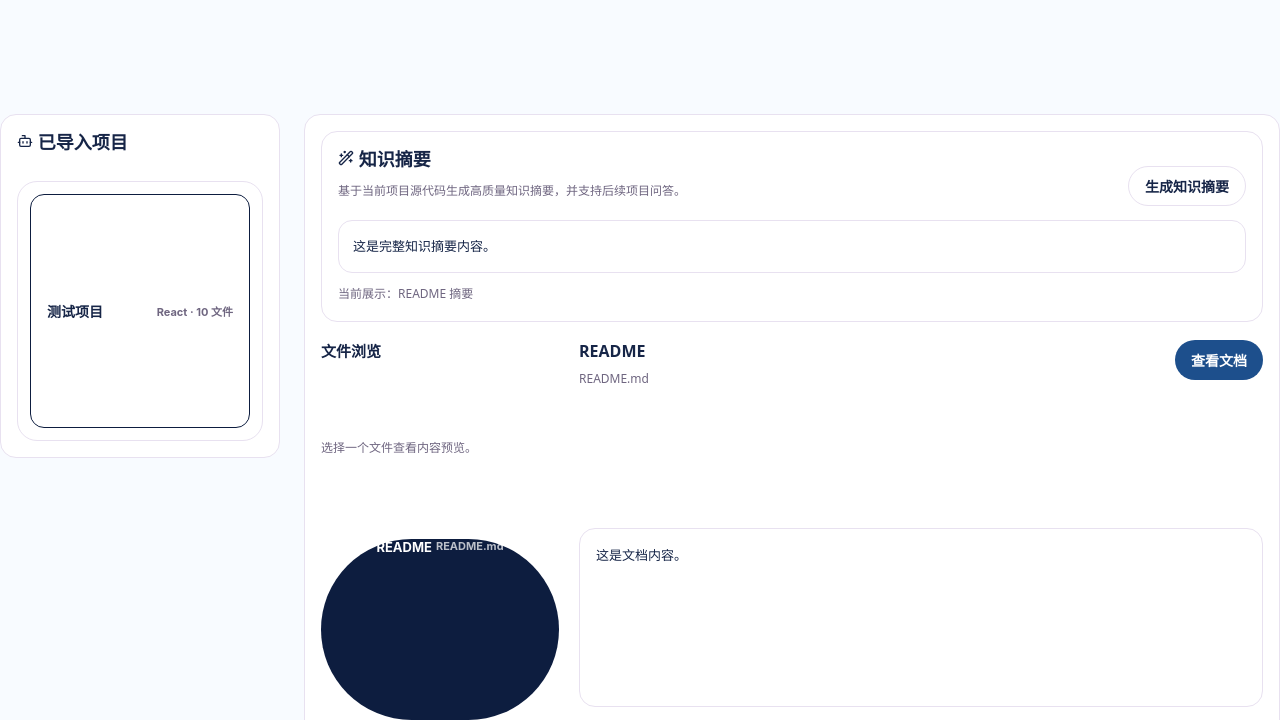
Test case: AiWorkbenchPage › shows document view modal when clicking 查看文档
(page scrolled)
Expected: the text "这是完整知识摘要内容。" is shown, top-left (353, 239), bottom-right (496, 254)
Step 1. Click the button "查看文档" → (1219, 360), box top-left (1175, 340), bottom-right (1263, 380)
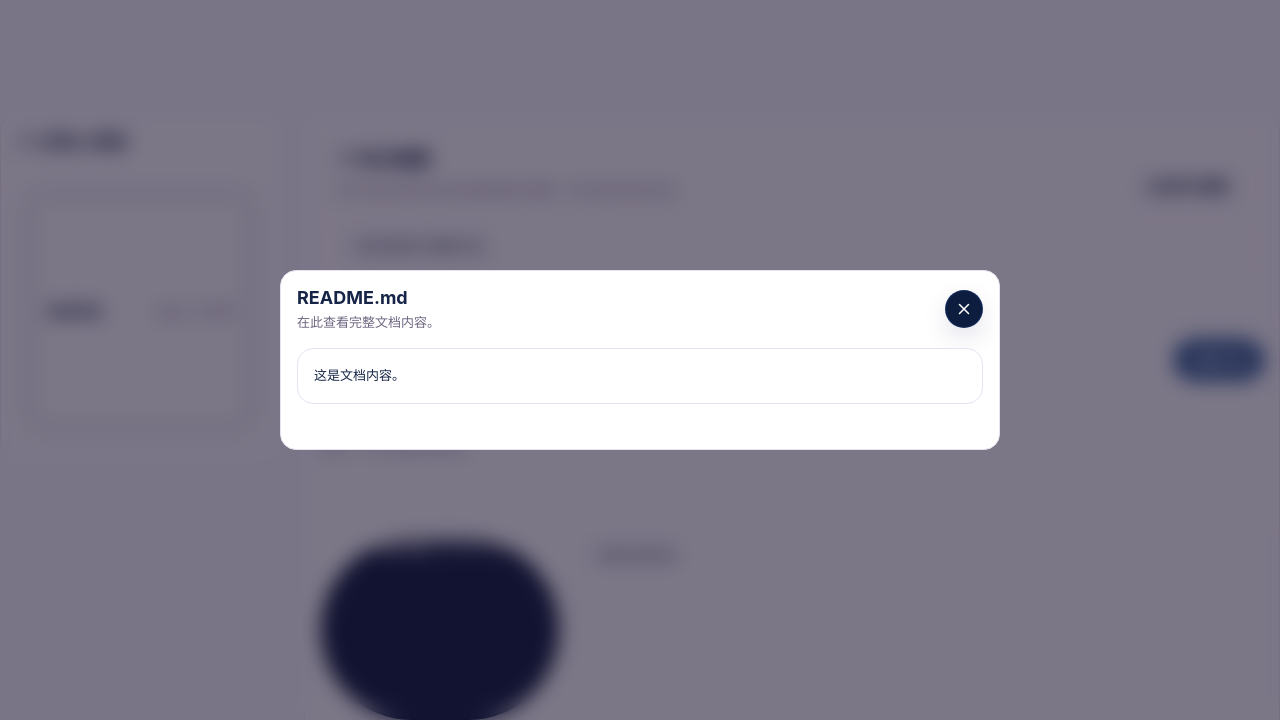
Now the text "这是文档内容。" is shown, box top-left (297, 348), bottom-right (983, 404)
